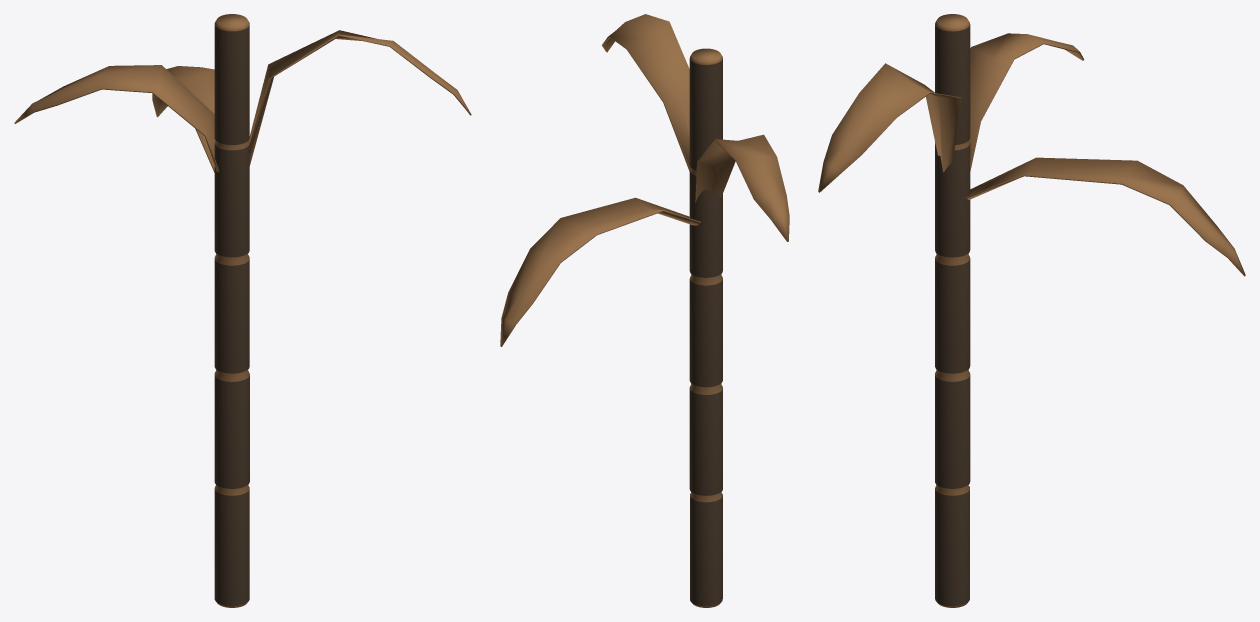
File: Dead Sugar Cane.fbx
3 views of the same model, side by side, from view 1: azimuth 30°, elevation 25°; view 2: azimuth 150°, elevation 25°; view 3: azimuth 270°, elevation 25° (orthographic). The views are drawn at different scales.
Parts seen in each view (by area): view 1: Cylinder, Plane.004, Plane.005, Plane.002; view 2: Cylinder, Plane.002, Plane.005, Plane.004; view 3: Cylinder, Plane.005, Plane.002, Plane.004.
Part boxes in pixels (x1=…): Cylinder: x1=214, y1=14, x2=249, y2=607; Plane.004: x1=14, y1=65, x2=218, y2=172; Plane.005: x1=248, y1=30, x2=471, y2=165; Plane.002: x1=152, y1=66, x2=214, y2=172; Cylinder: x1=689, y1=48, x2=722, y2=607; Plane.002: x1=500, y1=197, x2=700, y2=346; Plane.005: x1=602, y1=14, x2=690, y2=171; Plane.004: x1=695, y1=134, x2=789, y2=241; Cylinder: x1=935, y1=14, x2=970, y2=607; Plane.005: x1=818, y1=63, x2=961, y2=192; Plane.002: x1=961, y1=157, x2=1245, y2=276; Plane.004: x1=969, y1=33, x2=1084, y2=173.
Size of the model in its own units: 267 by 454 by 303.
